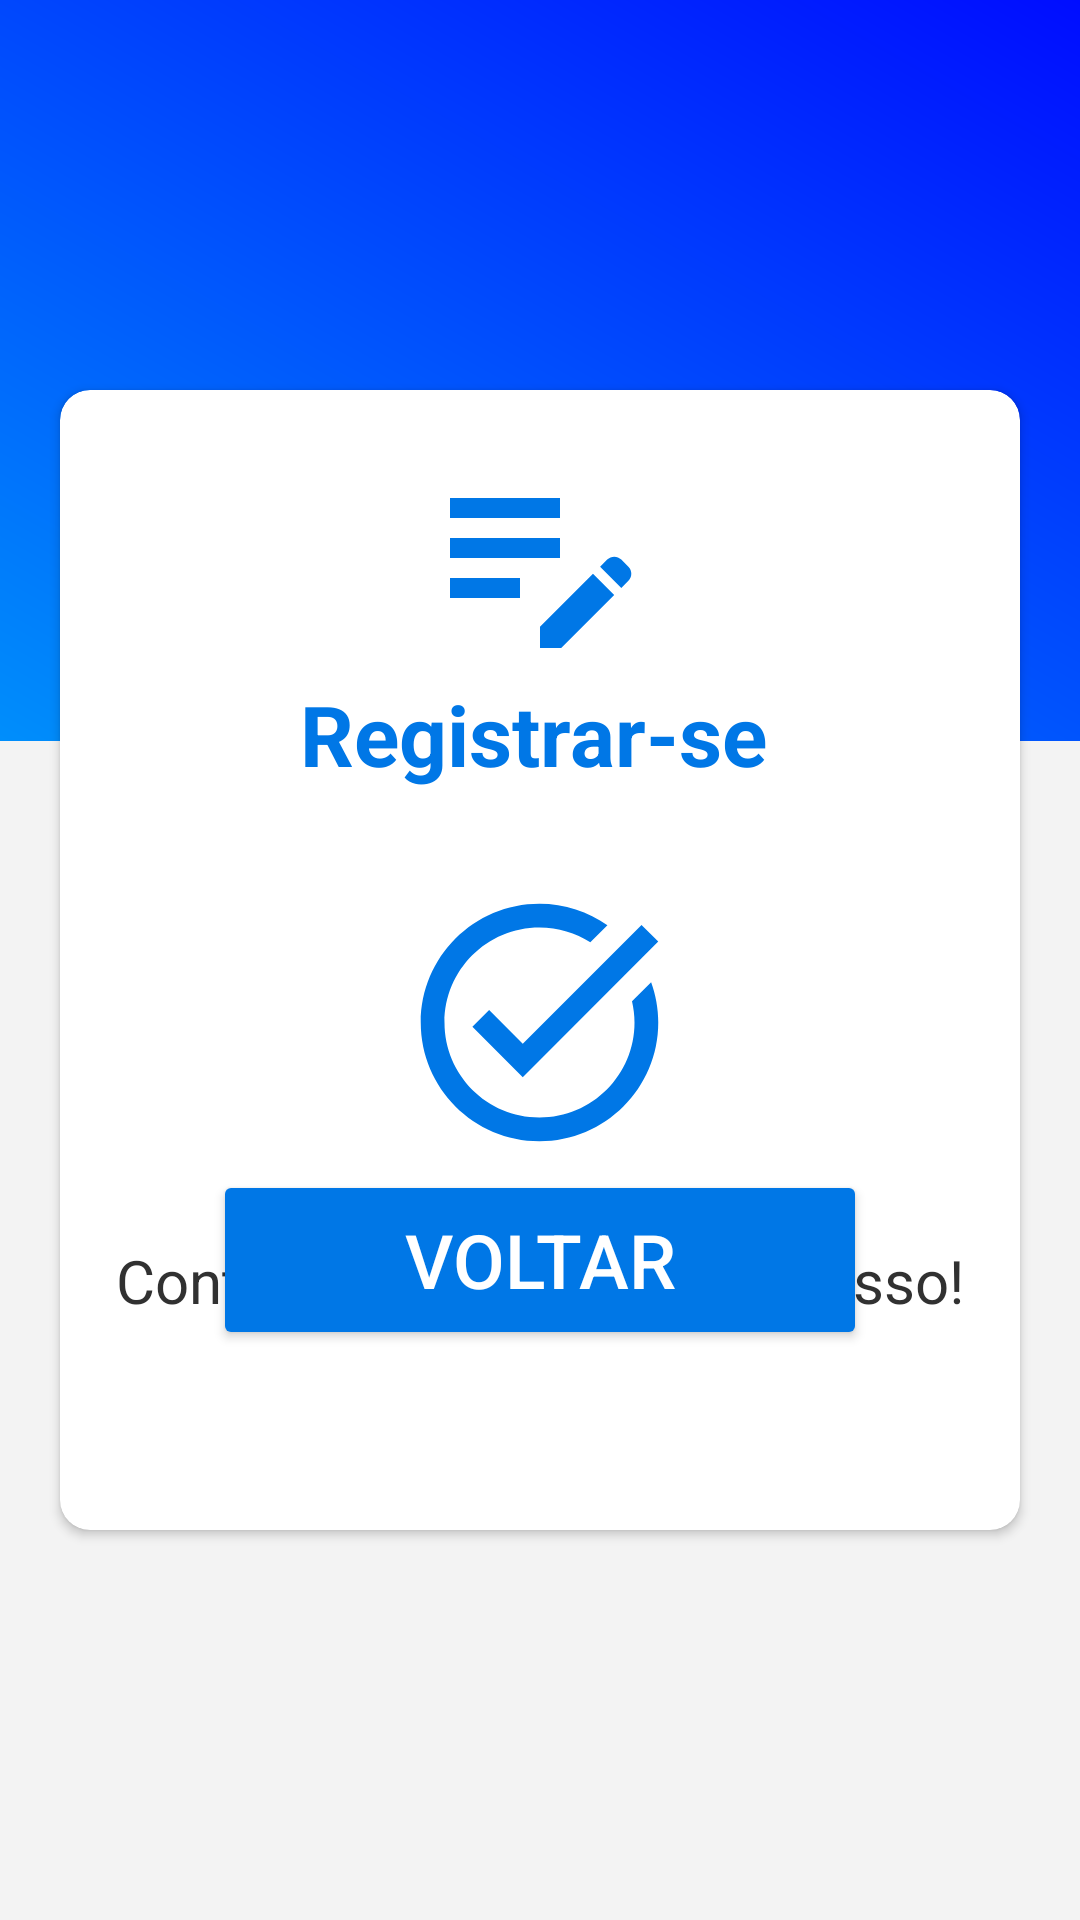

Screen size 1080px x 1920px. Icon name, then its box in pixels as (x1=x1, y1=y1, x2=x2, y2=y2):
edit note: (x1=450, y1=498, x2=632, y2=648)
task: (x1=420, y1=903, x2=659, y2=1142)
